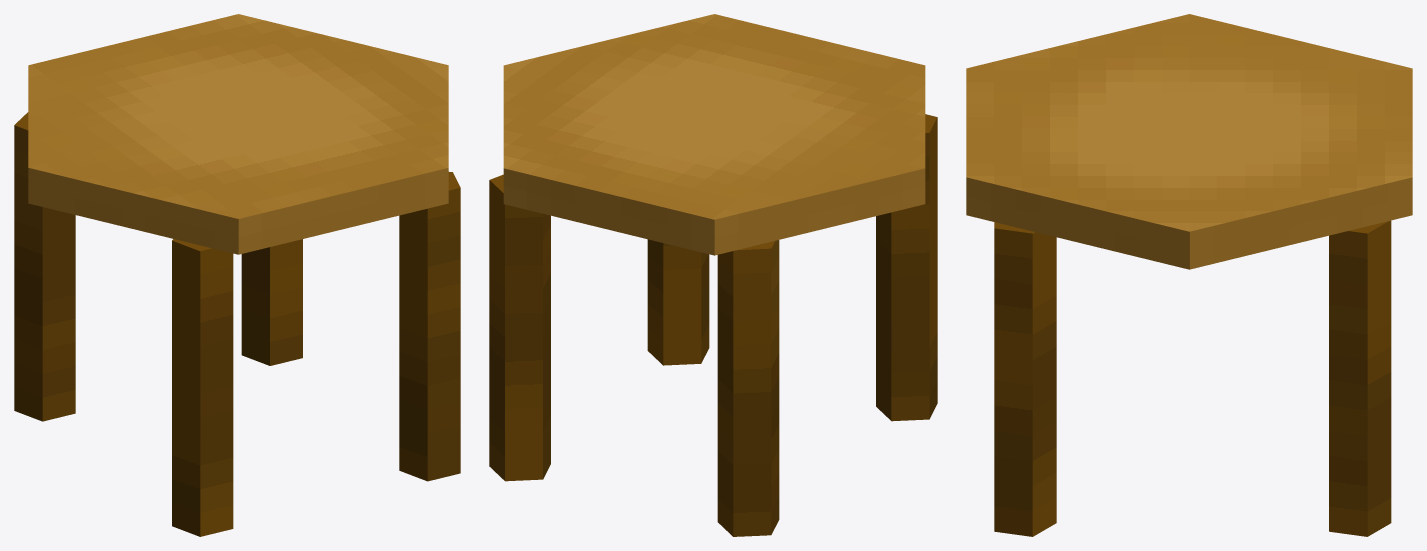
Rendered from chair2.fbx.
3 views of the same model, side by side, from view 1: azimuth 30°, elevation 25°; view 2: azimuth 150°, elevation 25°; view 3: azimuth 270°, elevation 25° (orthographic). The views are drawn at different scales.
Visible parts, largest first — view 1: cylinder_4, cylinder_2, cylinder_3, cylinder_1, cylinder; view 2: cylinder_4, cylinder_1, cylinder, cylinder_2, cylinder_3; view 3: cylinder_4, cylinder, cylinder_3.
Boxes of the visible parts, <box> form: cylinder_4: <box>28,14,448,254</box>; cylinder_2: <box>172,239,233,536</box>; cylinder_3: <box>399,172,460,481</box>; cylinder_1: <box>14,112,75,421</box>; cylinder: <box>241,239,302,365</box>; cylinder_4: <box>503,14,925,255</box>; cylinder_1: <box>717,240,779,536</box>; cylinder: <box>489,174,550,481</box>; cylinder_2: <box>876,114,937,421</box>; cylinder_3: <box>647,239,709,365</box>; cylinder_4: <box>966,14,1412,269</box>; cylinder: <box>1329,220,1391,536</box>; cylinder_3: <box>994,222,1056,536</box>.
Size of the model in its own units: 115 by 84.38 by 100.
1 material, 1 textured.
